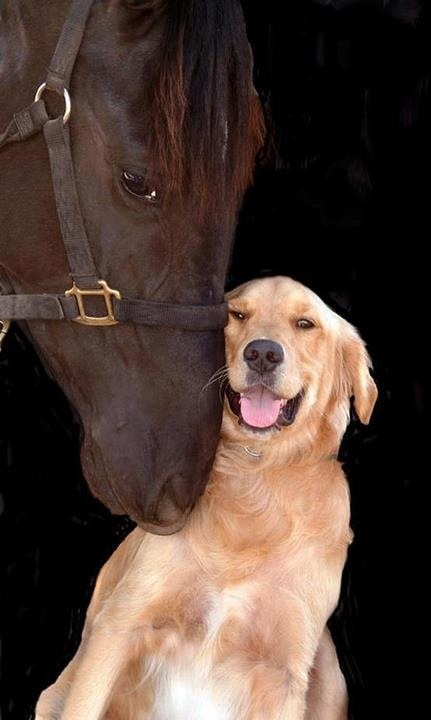Dog: (189, 275, 368, 717)
Horse: (4, 1, 238, 525)
